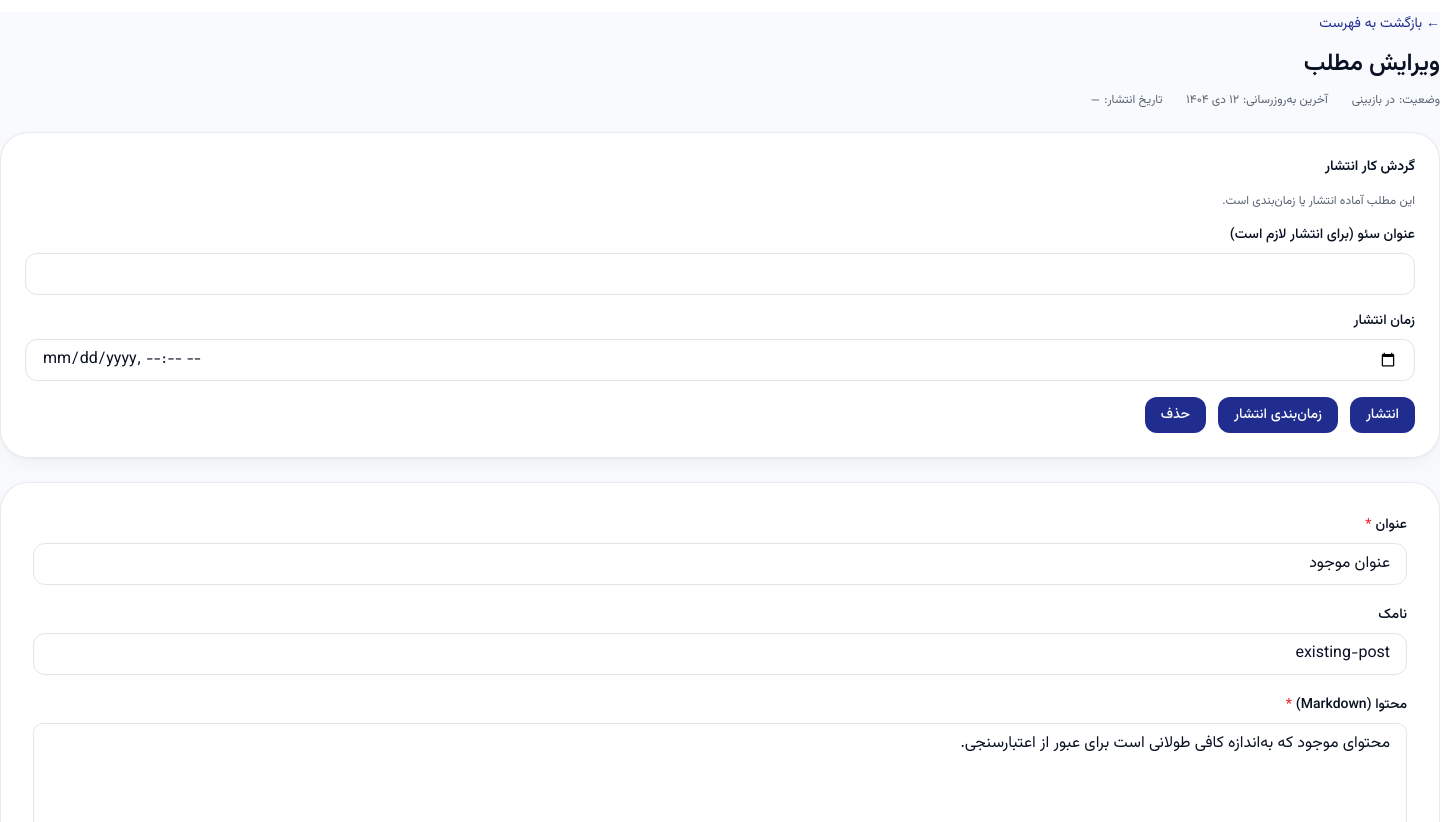
Test: BlogEditForm › workflow actions › publishes a REVIEW post with the entered SEO title
expect the field showing "عنوان موجود" is shown: met, box top-left (33, 543), bottom-right (1407, 585)
Type "عنوان سئو" into the field labelled "عنوان سئو (برای انتشار لازم است)" at point(720, 274), box top-left (25, 253), bottom-right (1415, 295)
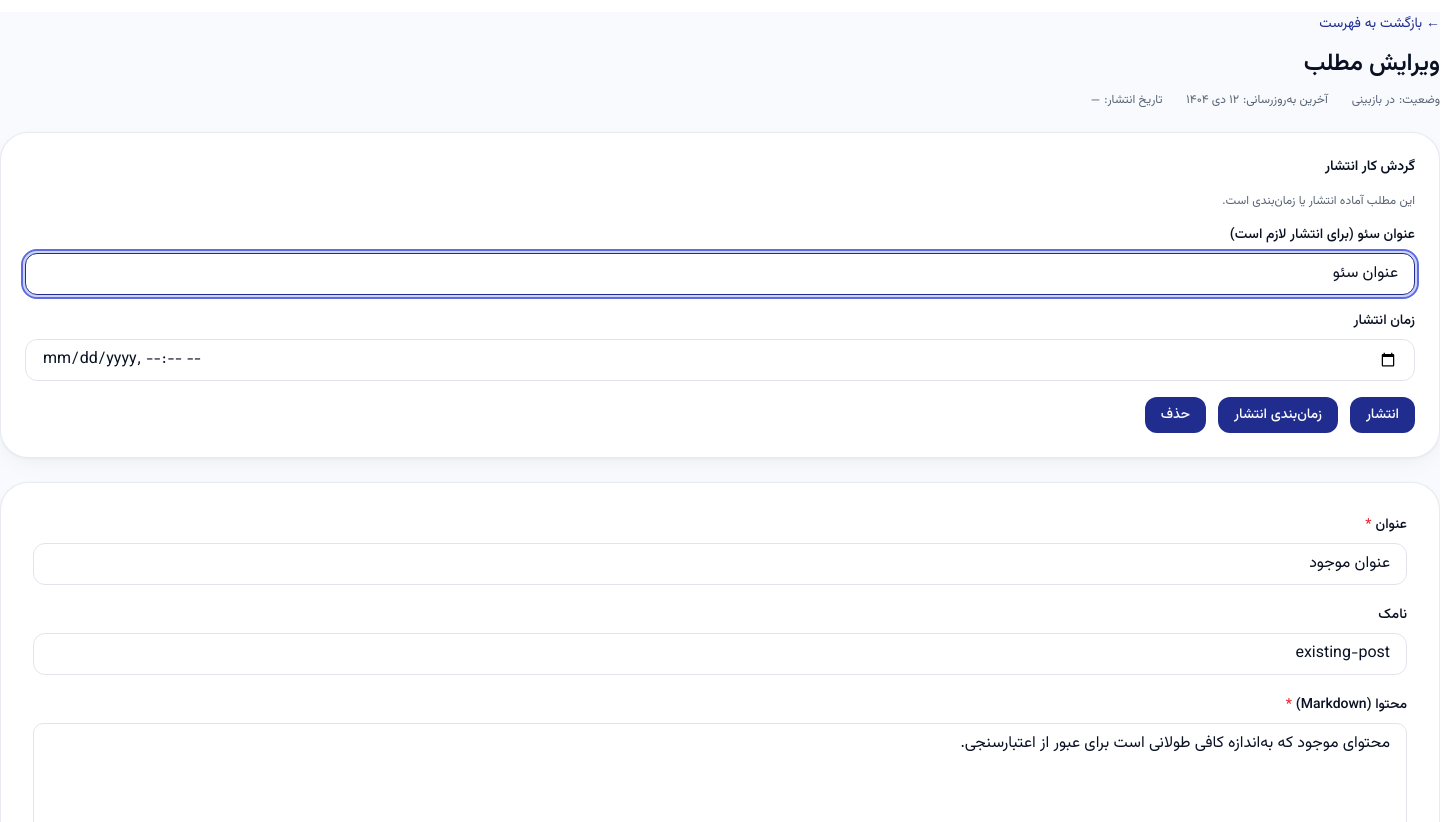
Click the button "انتشار" at point(1382, 415), box top-left (1350, 397), bottom-right (1415, 433)
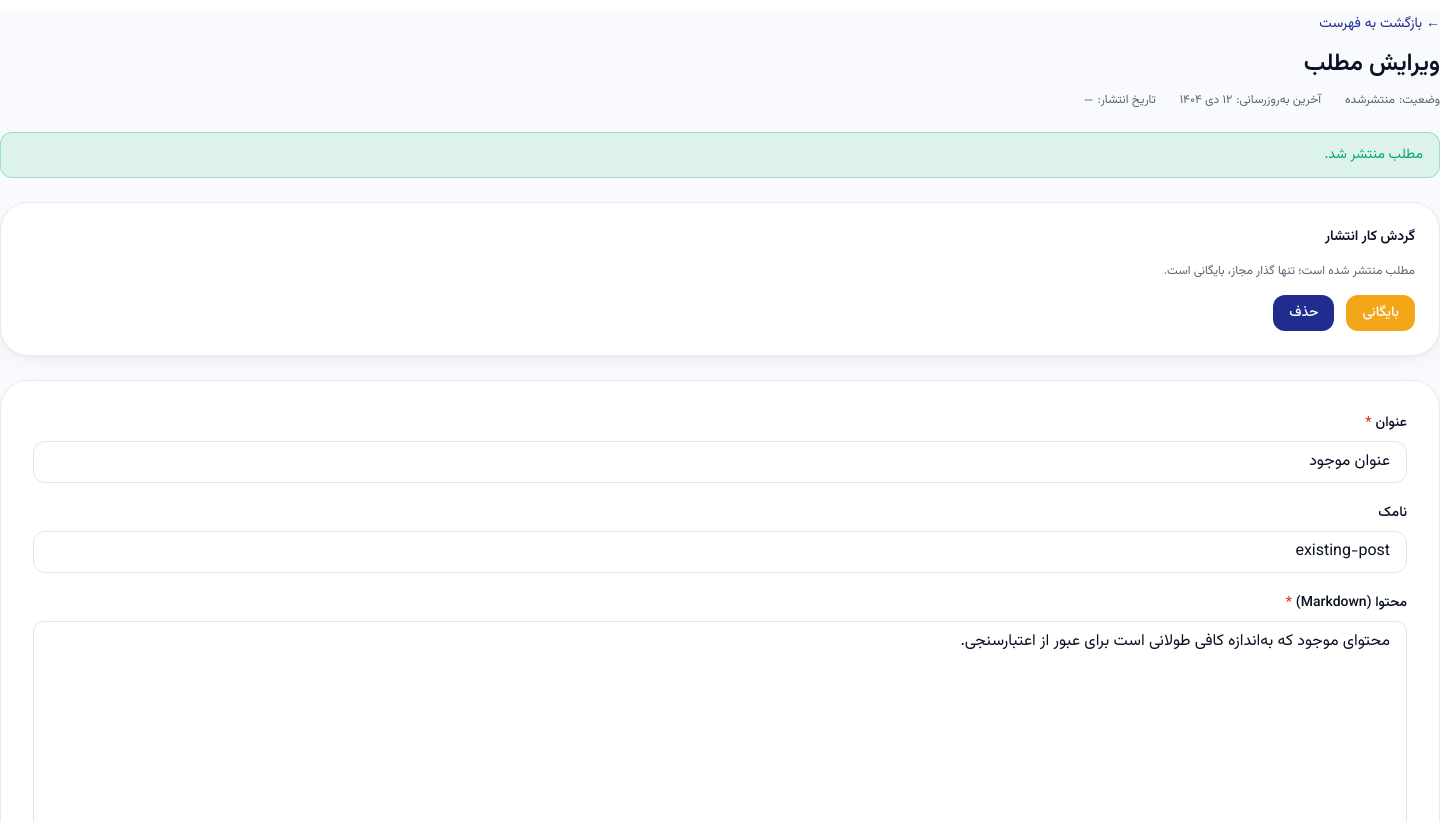
expect the text "مطلب منتشر شد." is shown: met, box top-left (0, 132), bottom-right (1440, 178)
